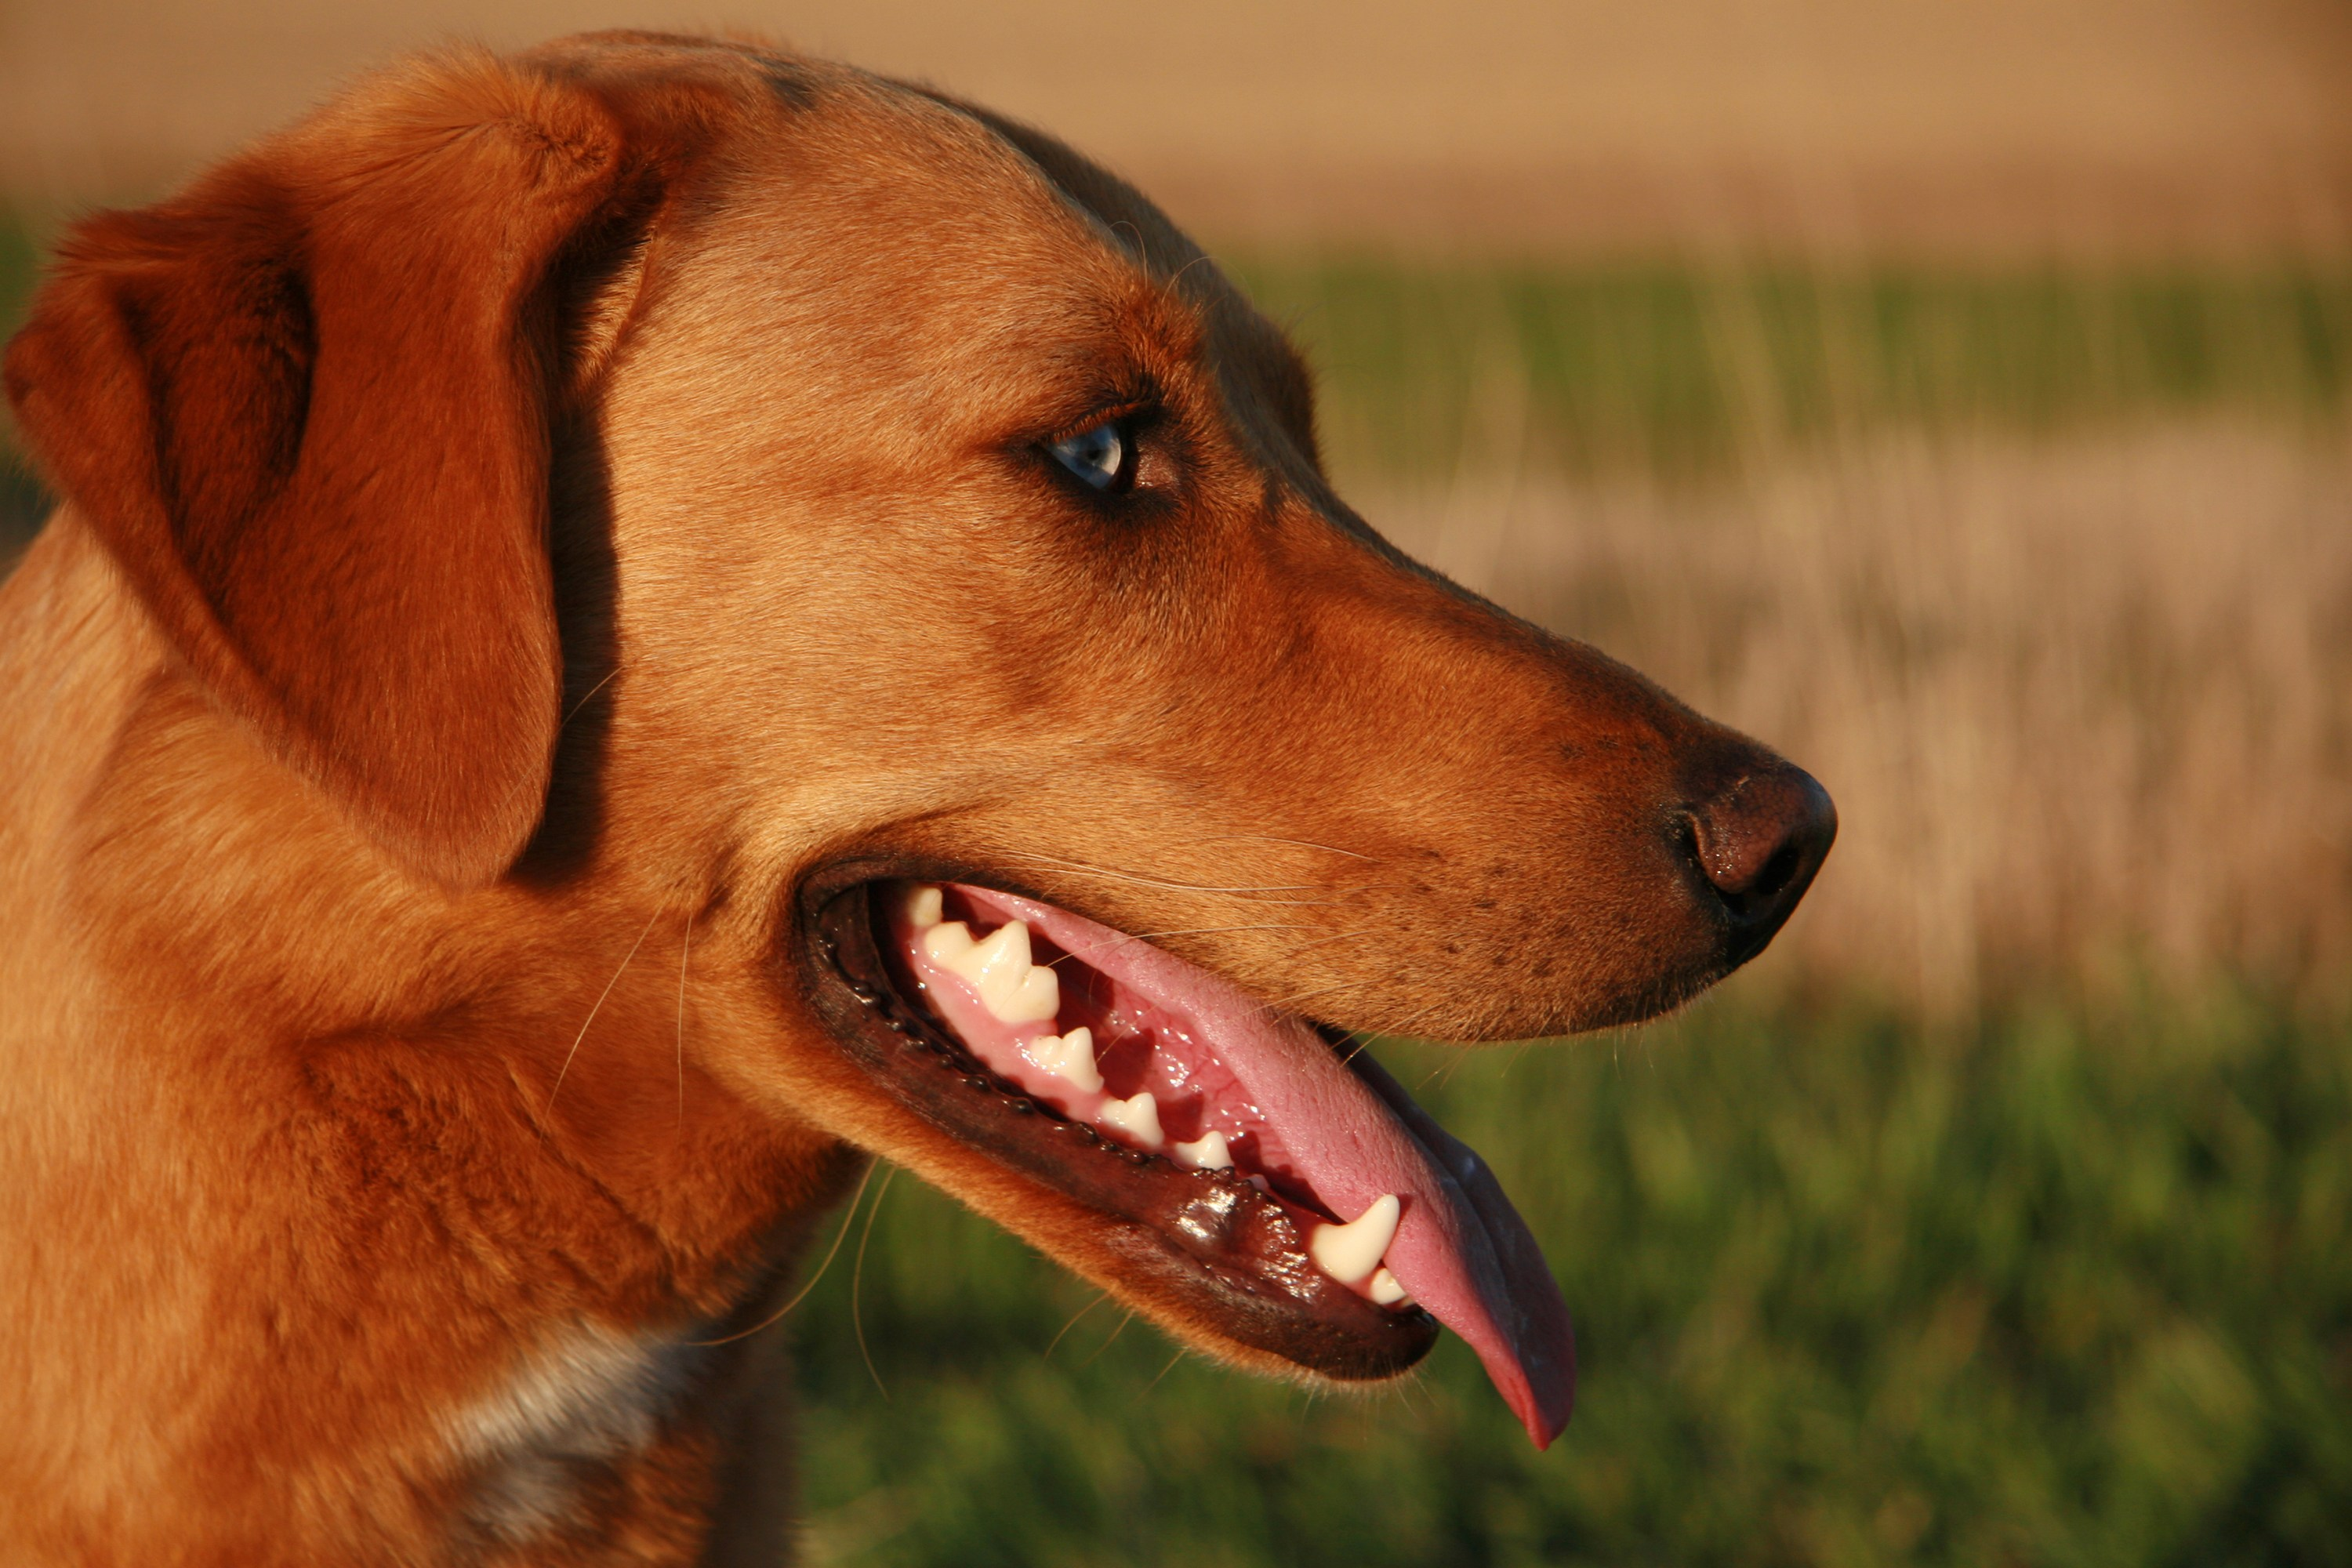dog: (12, 9, 1892, 1435)
